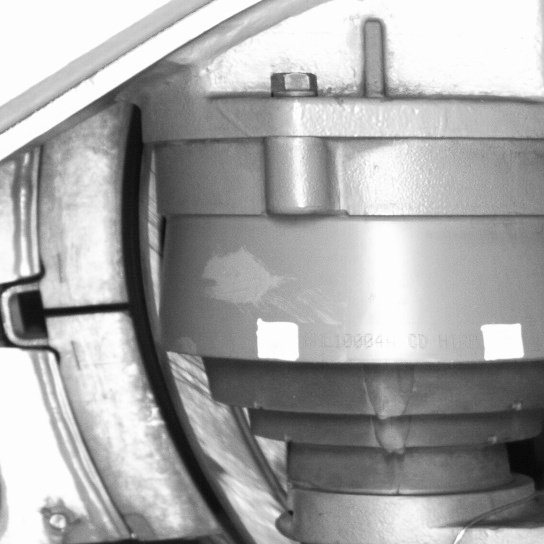KnifeSwitch: (41, 135, 254, 544)
